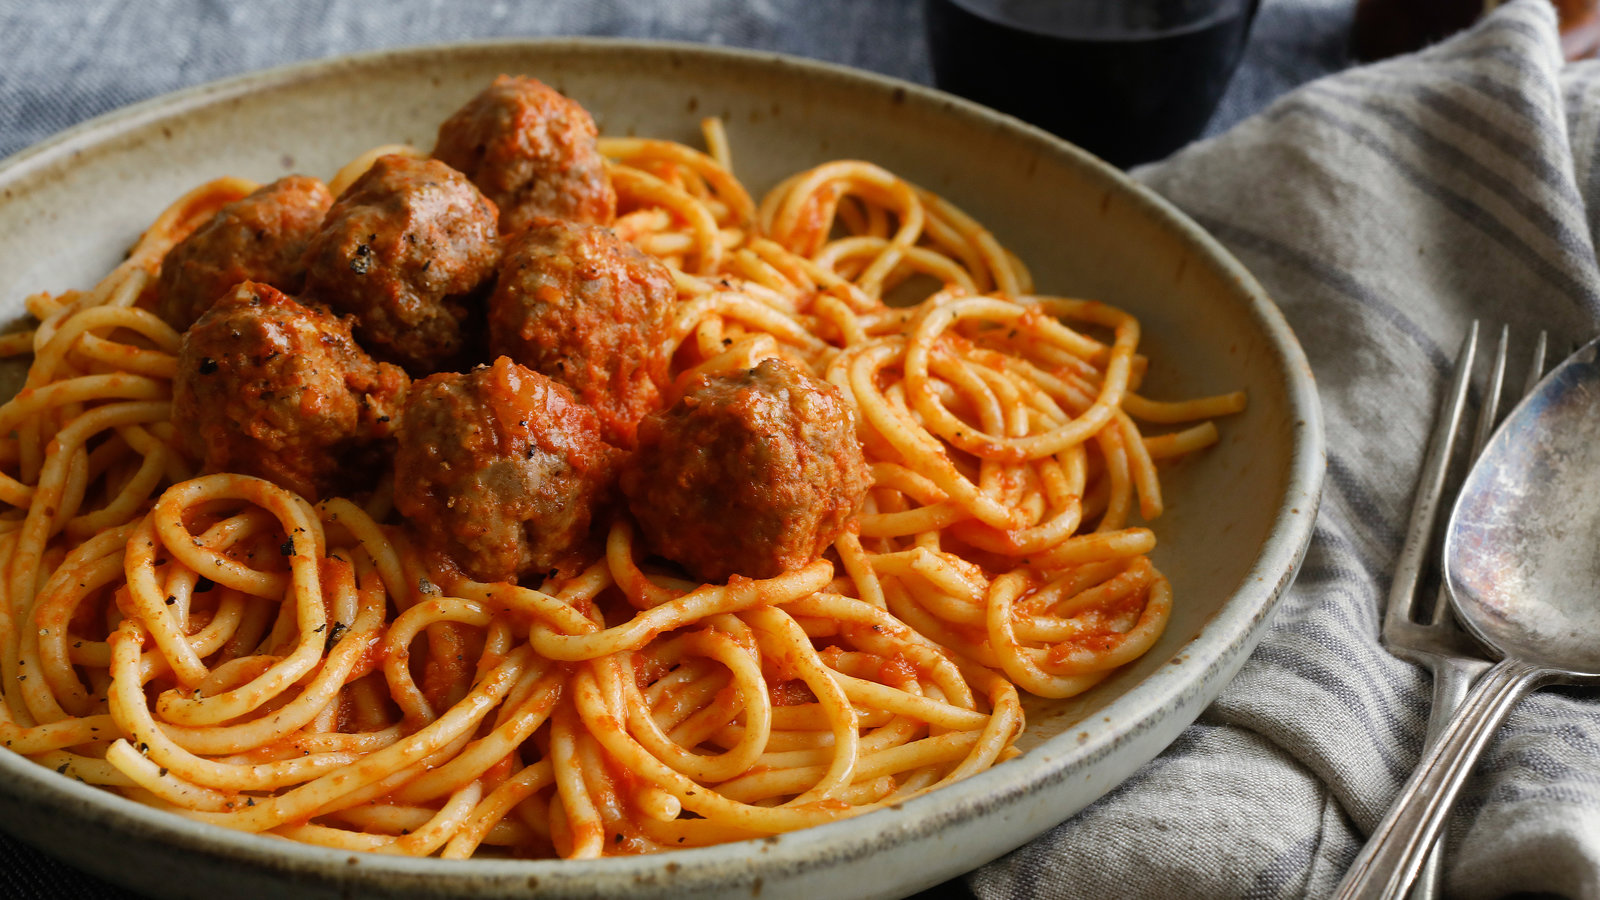meatballs: (200, 105, 843, 581)
plain spaghetti: (31, 190, 1171, 816)
